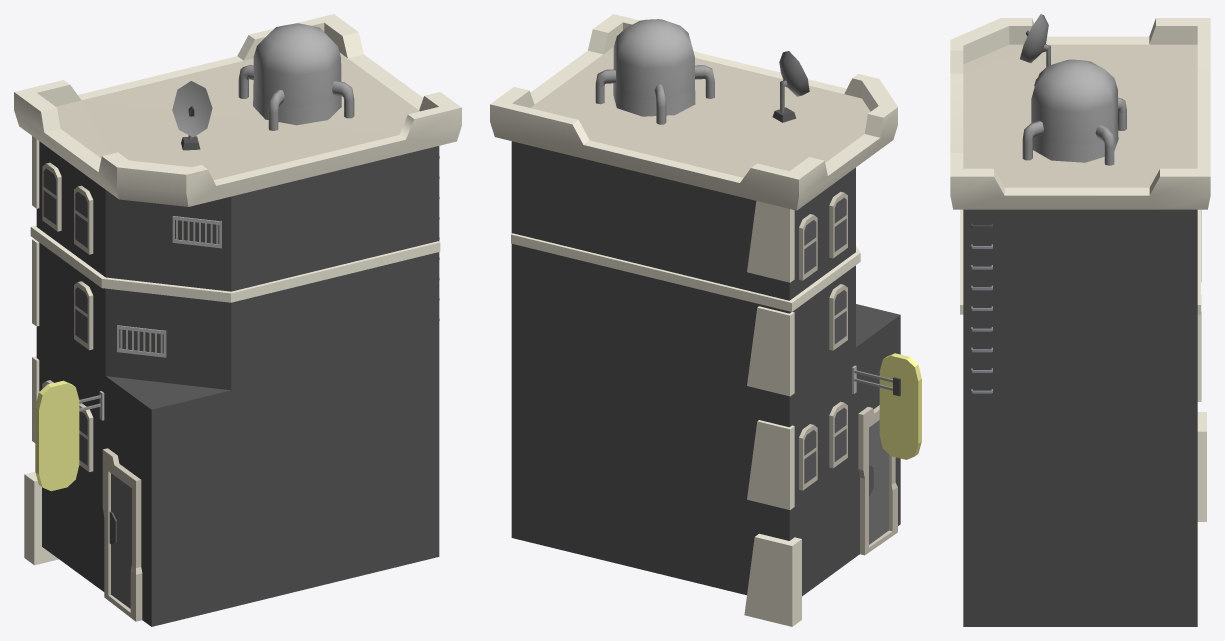
The model's file is NorthWest_House_01.fbx.
3 renders of one model, left to right at view 1: azimuth 30°, elevation 25°; view 2: azimuth 150°, elevation 25°; view 3: azimuth 270°, elevation 25°, orthographic. The views are drawn at different scales.
Visible parts, largest first — view 1: NorthWest_House_01; view 2: NorthWest_House_01; view 3: NorthWest_House_01.
Boxes of the visible parts, x1,y1,x2,y2 form: NorthWest_House_01: (14, 14, 461, 626); NorthWest_House_01: (490, 14, 921, 626); NorthWest_House_01: (950, 14, 1210, 626).
Size of the model in its own units: 29.09 by 39.47 by 17.36.
